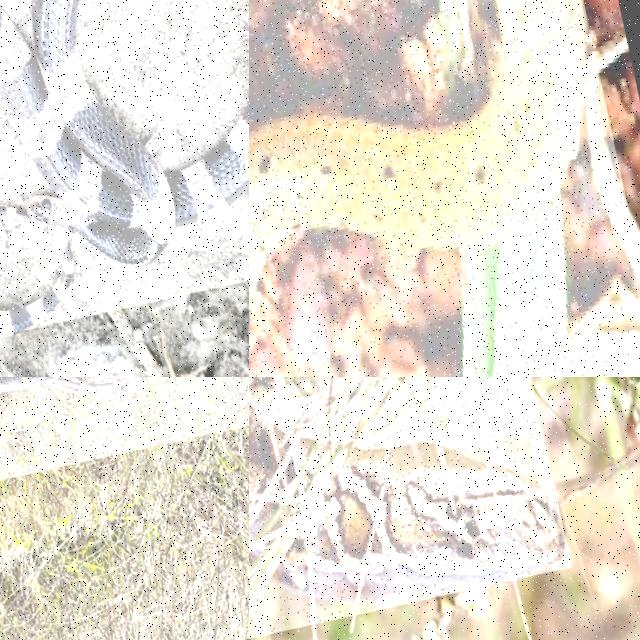Bungarus candidus: (0, 0, 248, 334)
Calliophis maculiceps: (249, 0, 584, 305)
Python bivittatus: (274, 443, 565, 601), (0, 377, 143, 392)
snake: (249, 0, 584, 305), (0, 0, 248, 334), (274, 443, 565, 601), (0, 377, 143, 392)
